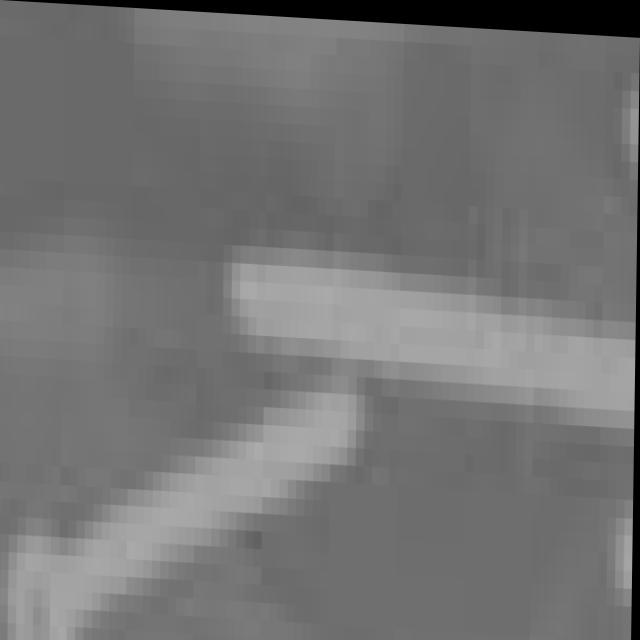fracture: (0, 5, 635, 640)
